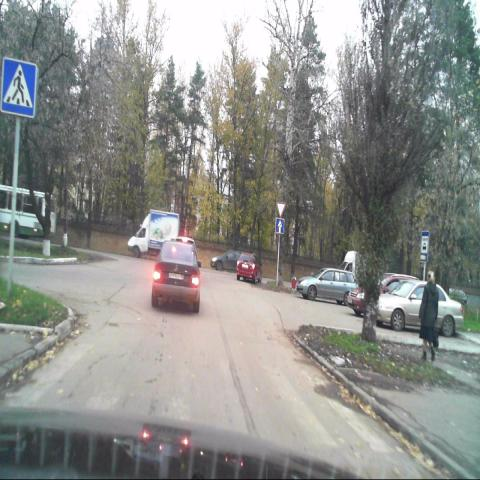2_4: (276, 201, 286, 218)
5_18: (420, 230, 429, 263)
5_19_1: (2, 59, 37, 118)
5_6: (276, 219, 284, 233)
